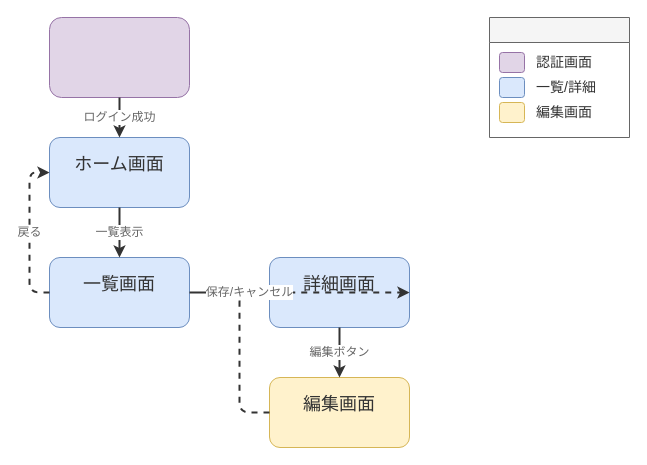
Some shapes in this 647 by 465 pixel diagram are drawn without their labels. The shapes that lost their labels are listed below. From the top down, each one's box as (x1, y1, x2, y2) in pixels, then its label:
(48, 16, 190, 98): ログイン画面
(488, 16, 630, 138): 凡例
